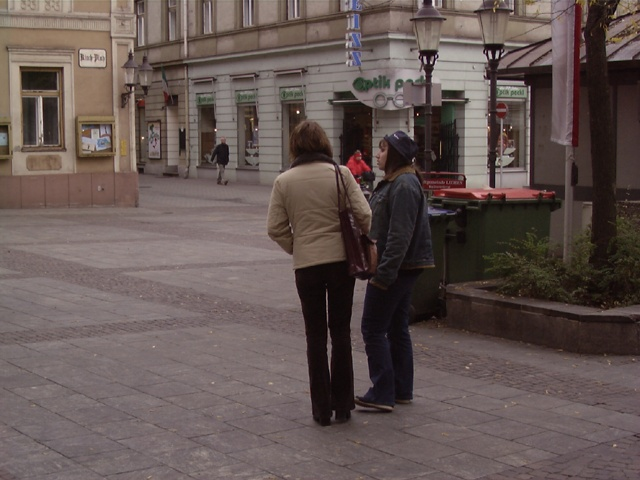person: (260, 121, 375, 429), (353, 132, 434, 411)
